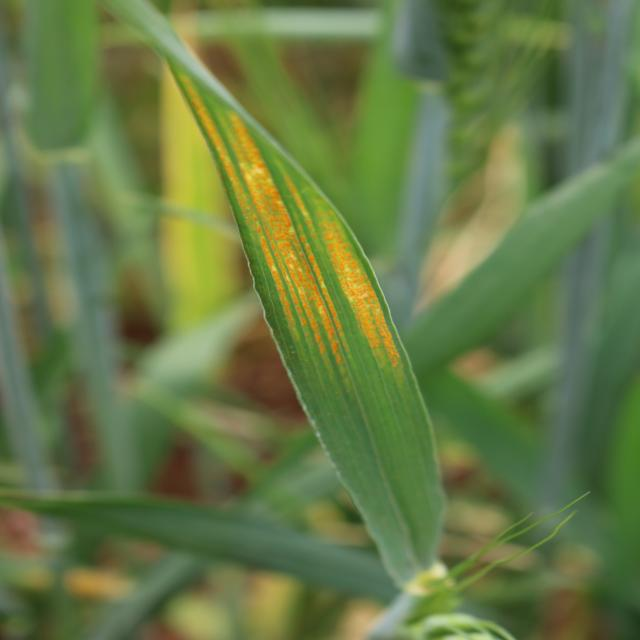Stripe Rust: (195, 122, 352, 378), (301, 204, 396, 365)
